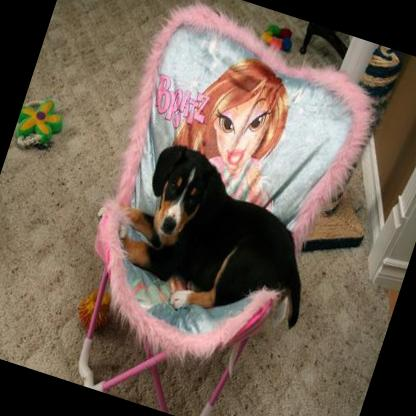EntleBucher: (97, 130, 336, 346)
